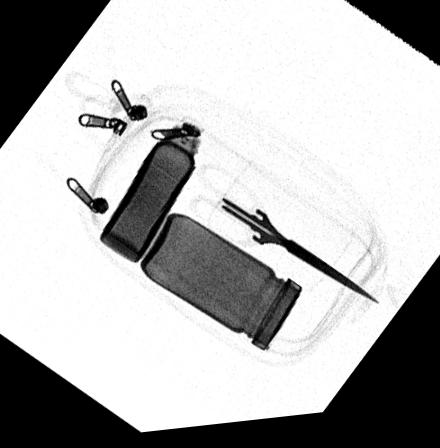Scissors: (183, 166, 381, 311)
